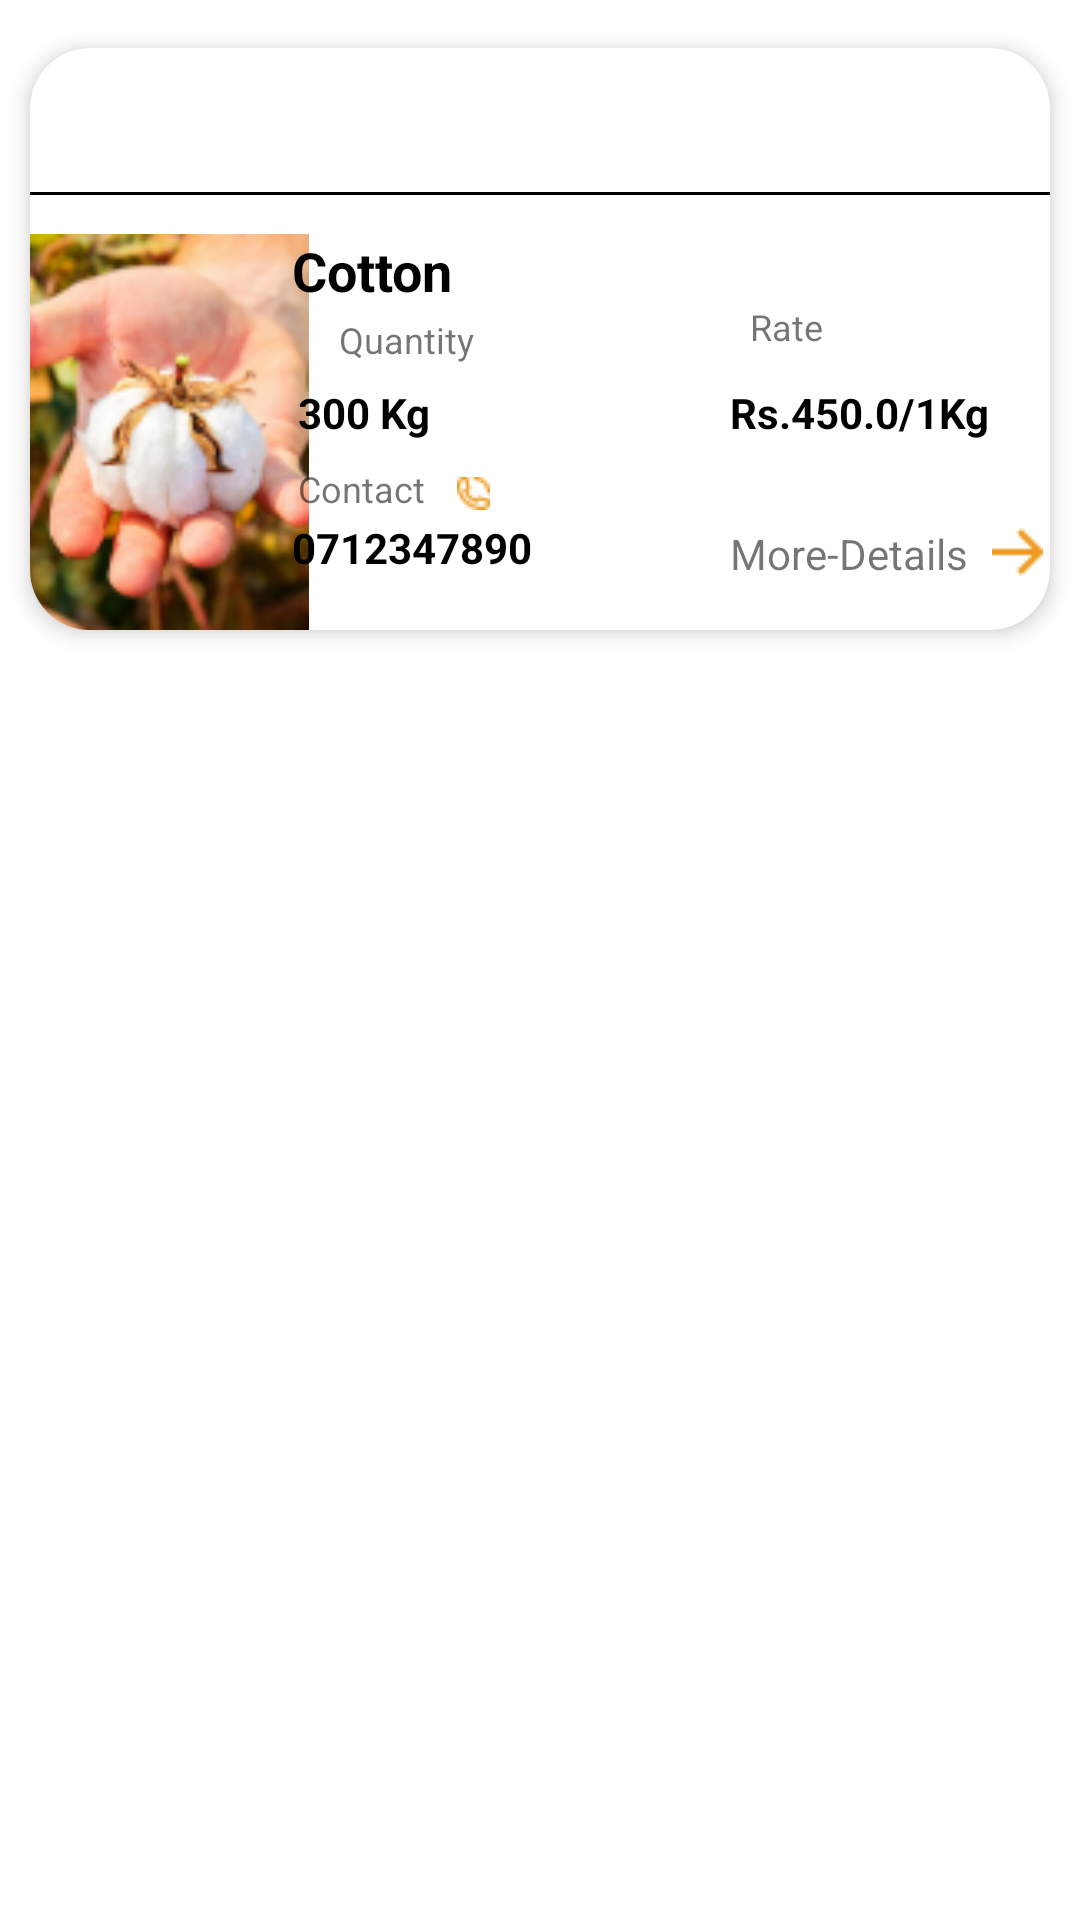

Icon click points for this 1080 x 1920 phone screenshot, format (x,y):
arrow: (1017,552)
